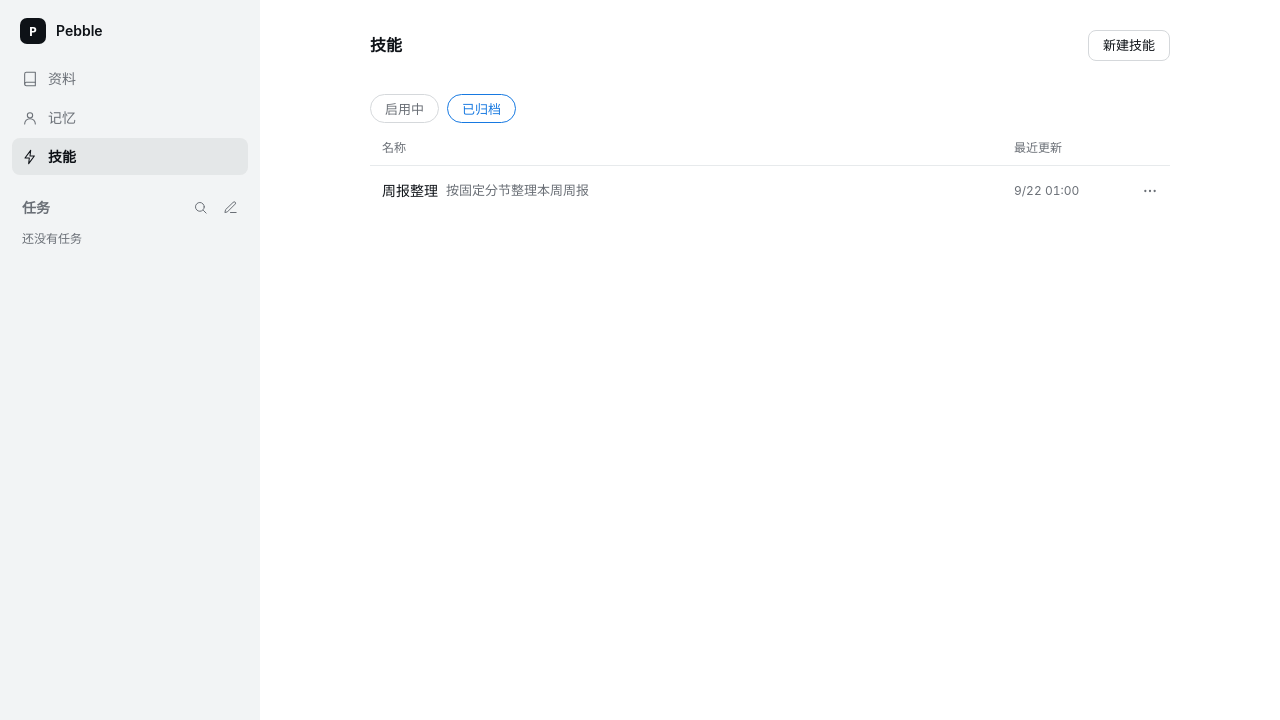
Test case: 已归档目录的行尾菜单改为恢复启用
Click the button named "更多操作": (1150, 190) [1136, 176, 1164, 204]
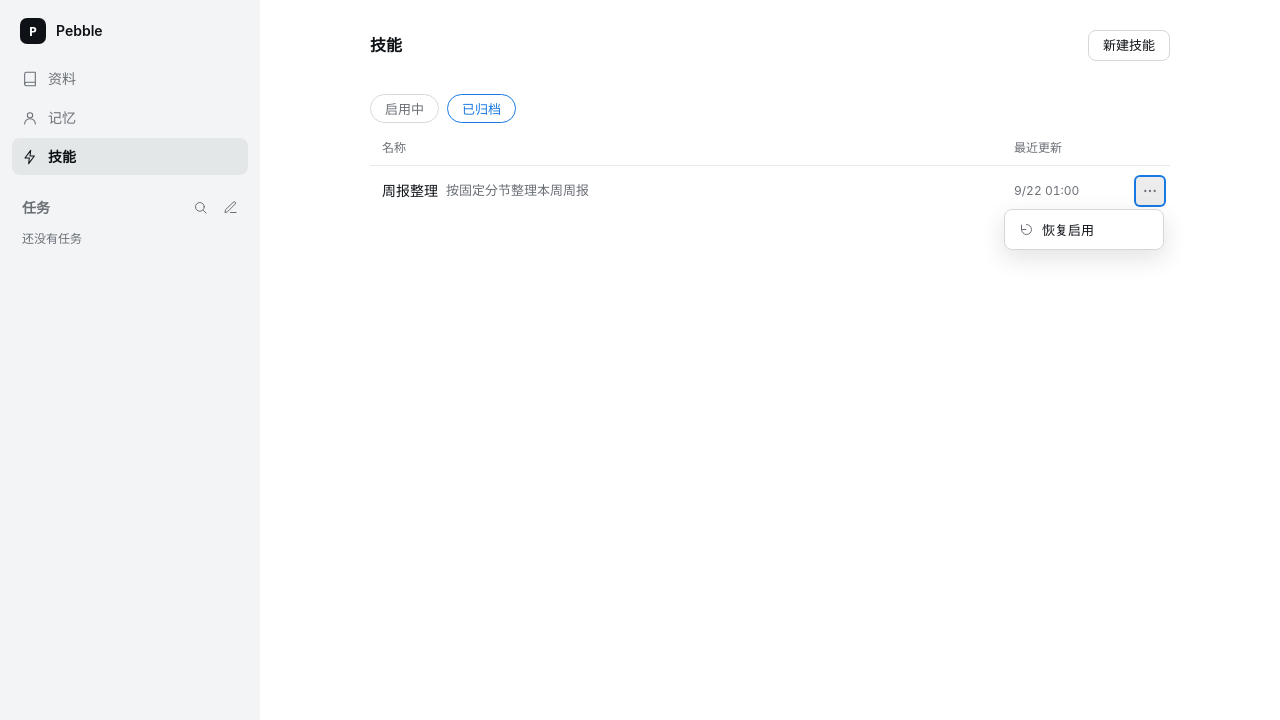
Click the menu item "恢复启用": (1084, 229) [1009, 214, 1159, 244]
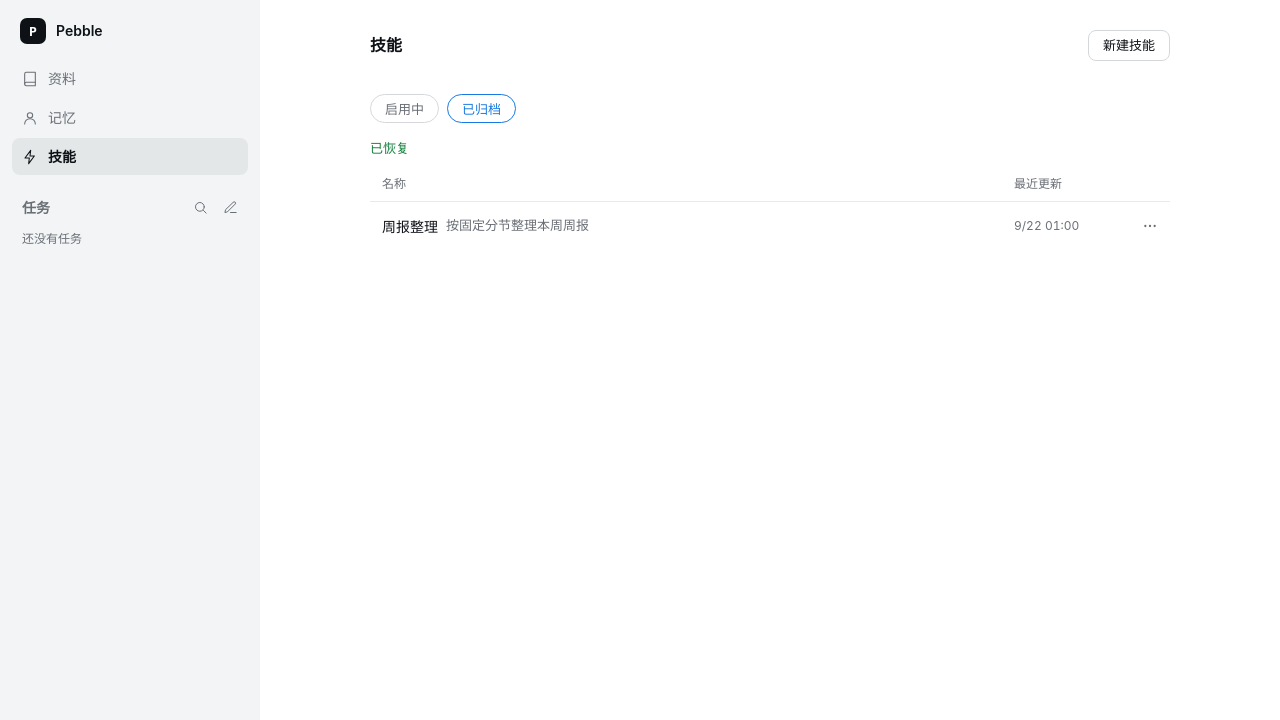
Expected: the text "已恢复" is shown, [370, 140, 409, 156]
